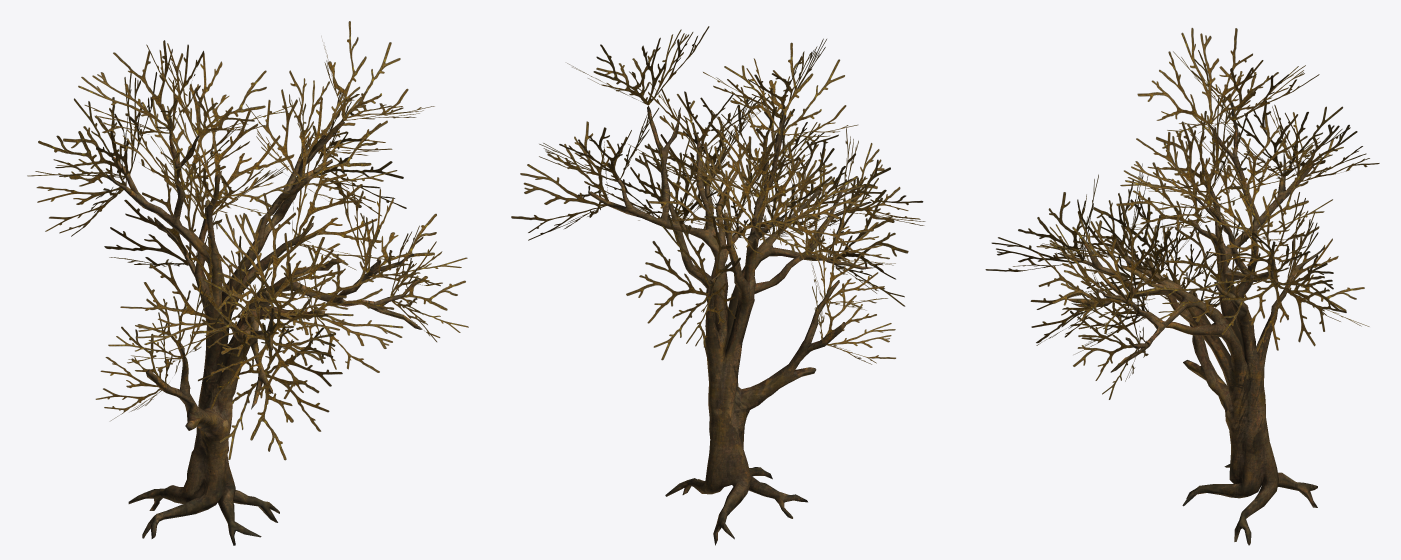
The model's file is tree.glb.
3 views of the same model, side by side, from view 1: azimuth 30°, elevation 25°; view 2: azimuth 150°, elevation 25°; view 3: azimuth 270°, elevation 25° (orthographic). The views are drawn at different scales.
Visible parts, largest first — view 1: branches, tree3; view 2: branches, tree3; view 3: branches, tree3.
Part boxes in pixels (bbox=[...]): branches: bbox=[27, 21, 468, 460]; tree3: bbox=[106, 118, 422, 545]; branches: bbox=[511, 26, 925, 364]; tree3: bbox=[588, 106, 874, 545]; branches: bbox=[985, 28, 1379, 399]; tree3: bbox=[1056, 102, 1324, 545].
Bounding box in the file's own units: 16.45 × 22.58 × 17.86.
2 materials, 2 textured.
